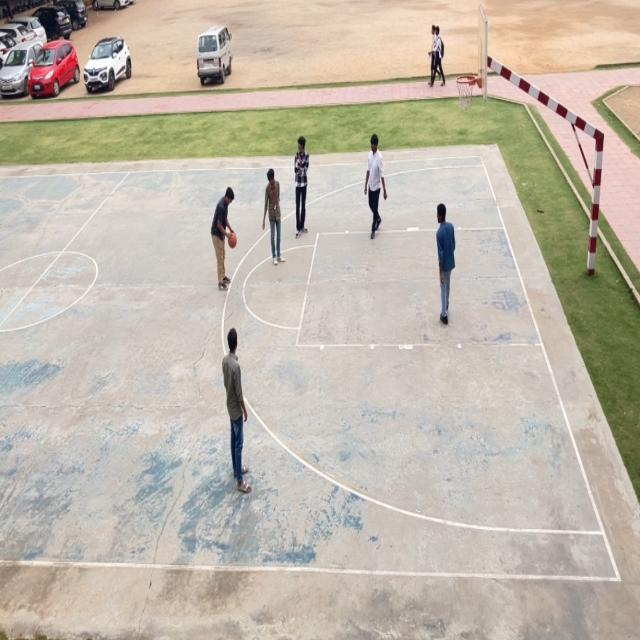basketball: (228, 229, 238, 250)
hoop: (455, 75, 477, 111)
